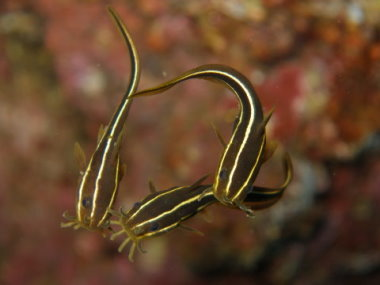gonzui: (152, 44, 278, 207), (66, 10, 151, 228)
